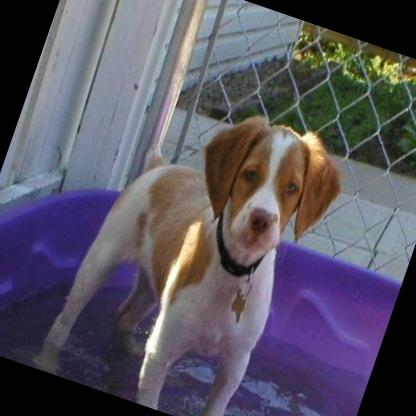Brittany_spaniel: (28, 63, 356, 416)
